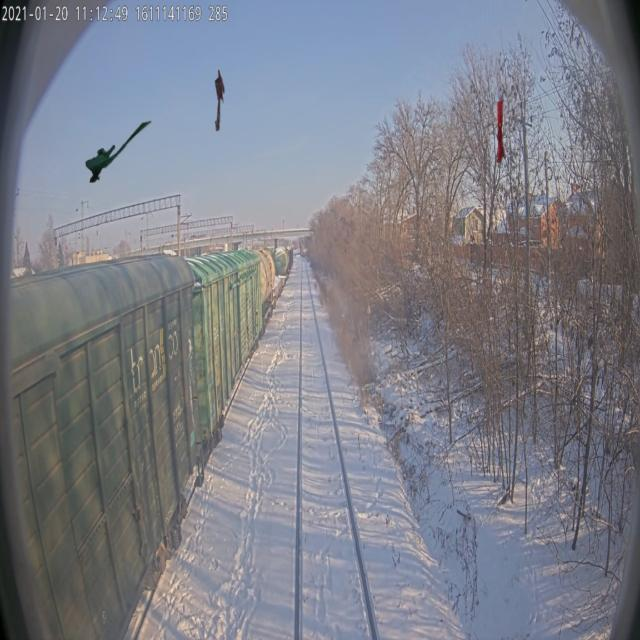floating object: (86, 119, 152, 182), (214, 67, 225, 131), (497, 99, 505, 163)
